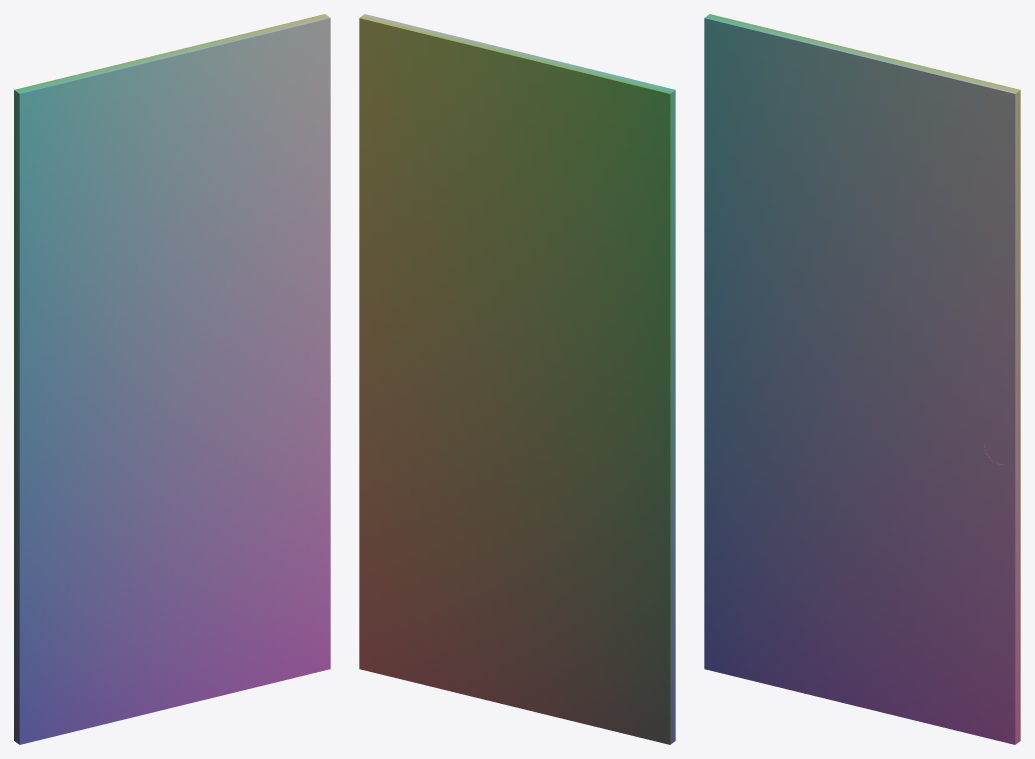
File: fusuma_PREBAKE.glb
3 views of the same model, side by side, from view 1: azimuth 30°, elevation 25°; view 2: azimuth 150°, elevation 25°; view 3: azimuth 330°, elevation 25° (orthographic).
Size of the model in its own units: 1.27 by 2.55 by 0.0408.
